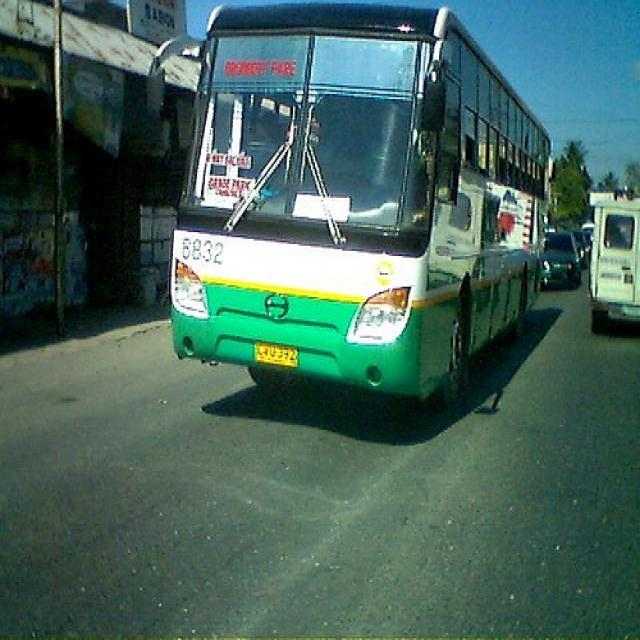bus: (170, 0, 553, 410)
car: (590, 196, 639, 331), (541, 231, 580, 290)
